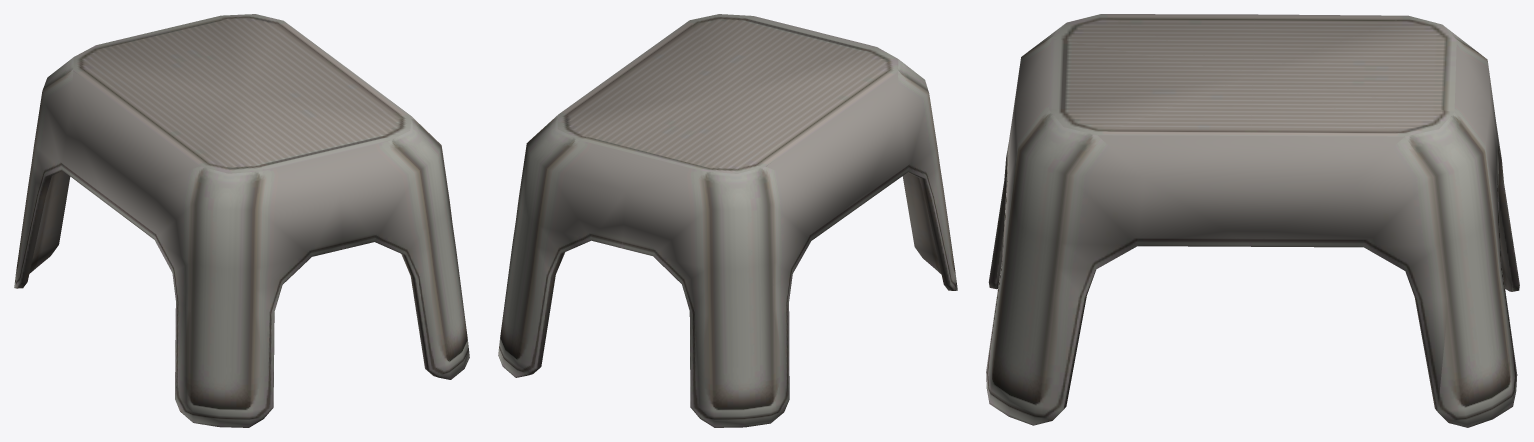
Rendered from plasticStoot.FBX.
3 views of the same model, side by side, from view 1: azimuth 30°, elevation 25°; view 2: azimuth 150°, elevation 25°; view 3: azimuth 270°, elevation 25° (orthographic). The views are drawn at different scales.
Parts seen in each view (by area): view 1: plasticStoot; view 2: plasticStoot; view 3: plasticStoot.
Part boxes in pixels (<box>): plasticStoot: <box>14,14,469,427</box>; plasticStoot: <box>498,14,957,427</box>; plasticStoot: <box>986,14,1519,427</box>.
Bounding box in the file's own units: 37.9 × 28.66 × 50.94.
